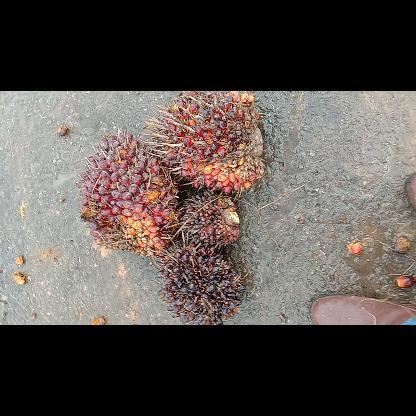TBS abnormal: (152, 234, 247, 324), (174, 190, 244, 250)
TBS masak: (139, 91, 269, 197), (76, 127, 180, 258)
